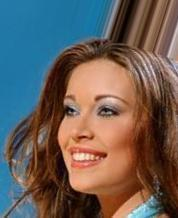face: (61, 94, 119, 172)
